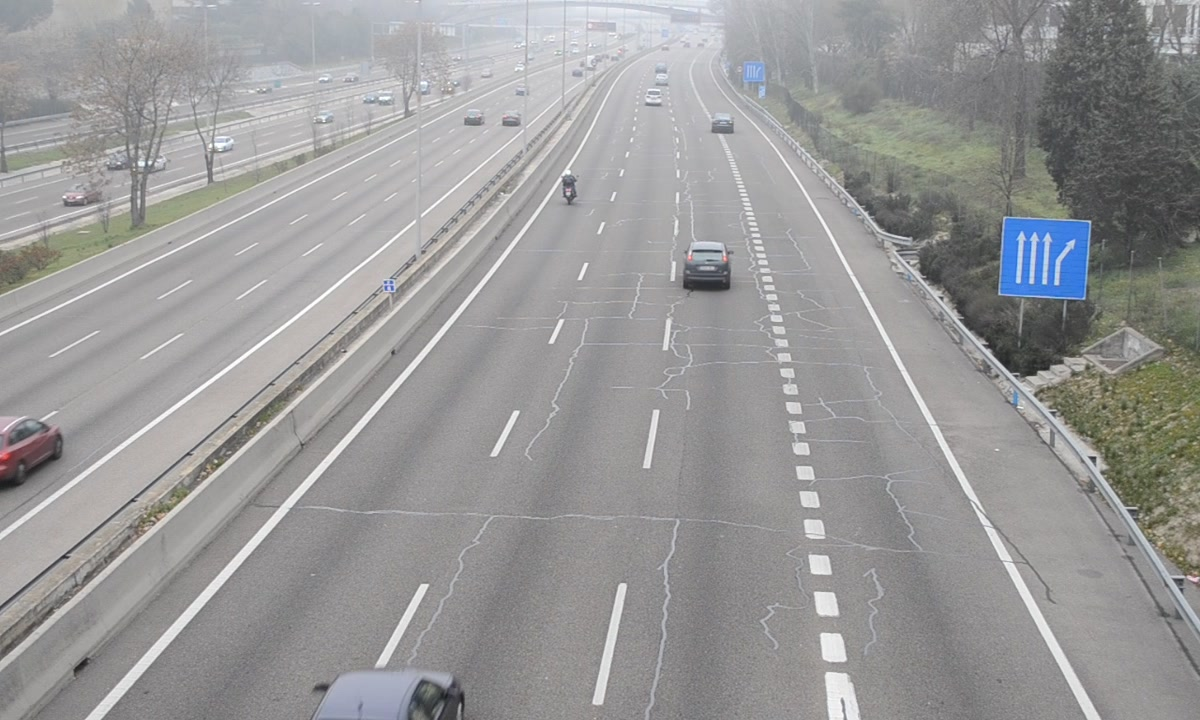car: (683, 241, 732, 292), (711, 114, 733, 134), (646, 89, 662, 107)
motorcycle: (560, 170, 578, 207)
